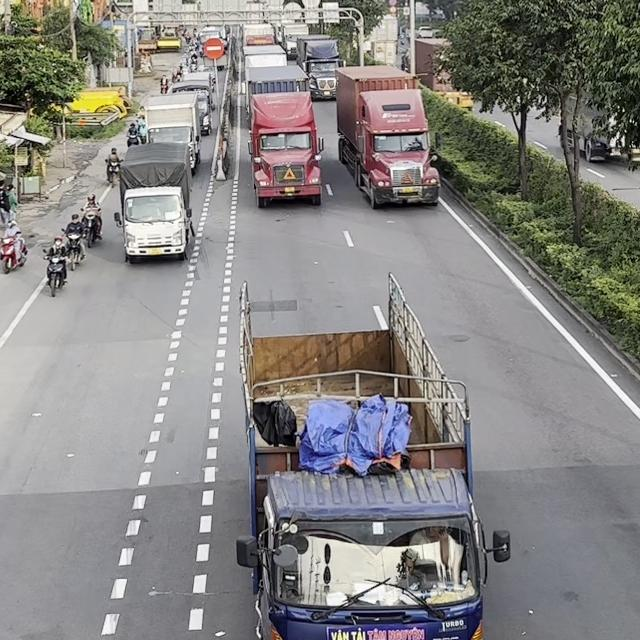motorcycle: (42, 246, 69, 297), (0, 230, 27, 273), (61, 228, 85, 269), (80, 206, 102, 246), (104, 157, 121, 186)
truck: (235, 276, 510, 639), (335, 64, 440, 209), (243, 67, 324, 208), (114, 142, 196, 264), (143, 92, 202, 175), (295, 34, 345, 100)
